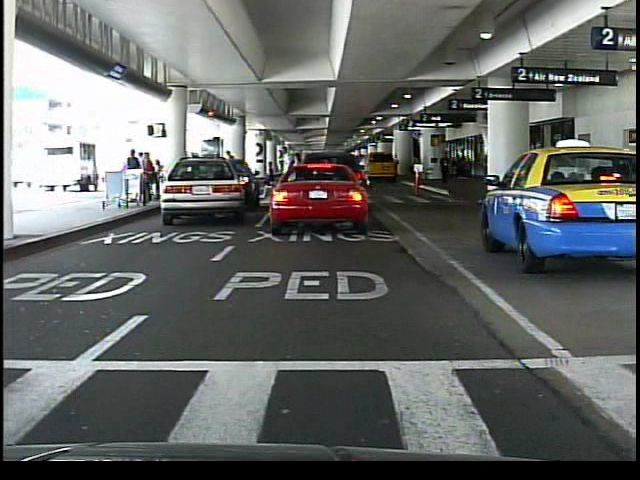person: (279, 145, 297, 203), (262, 160, 280, 206), (126, 147, 141, 201), (225, 149, 240, 201), (356, 150, 372, 192), (439, 151, 452, 186)
